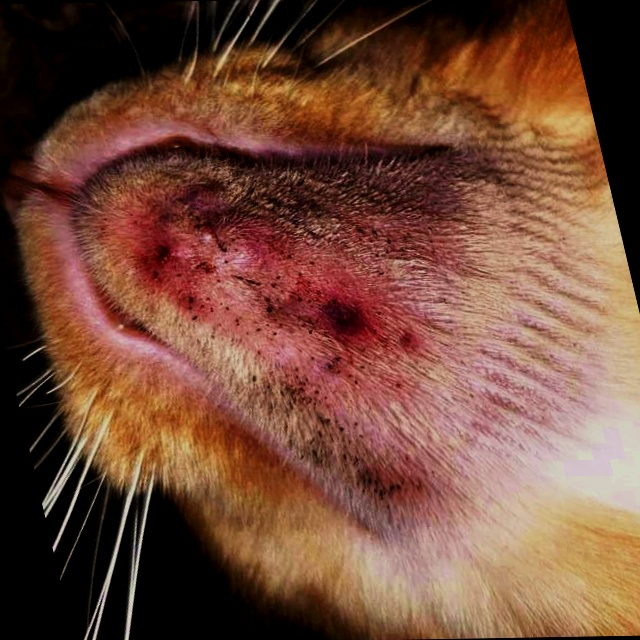acne: (124, 166, 474, 520)
